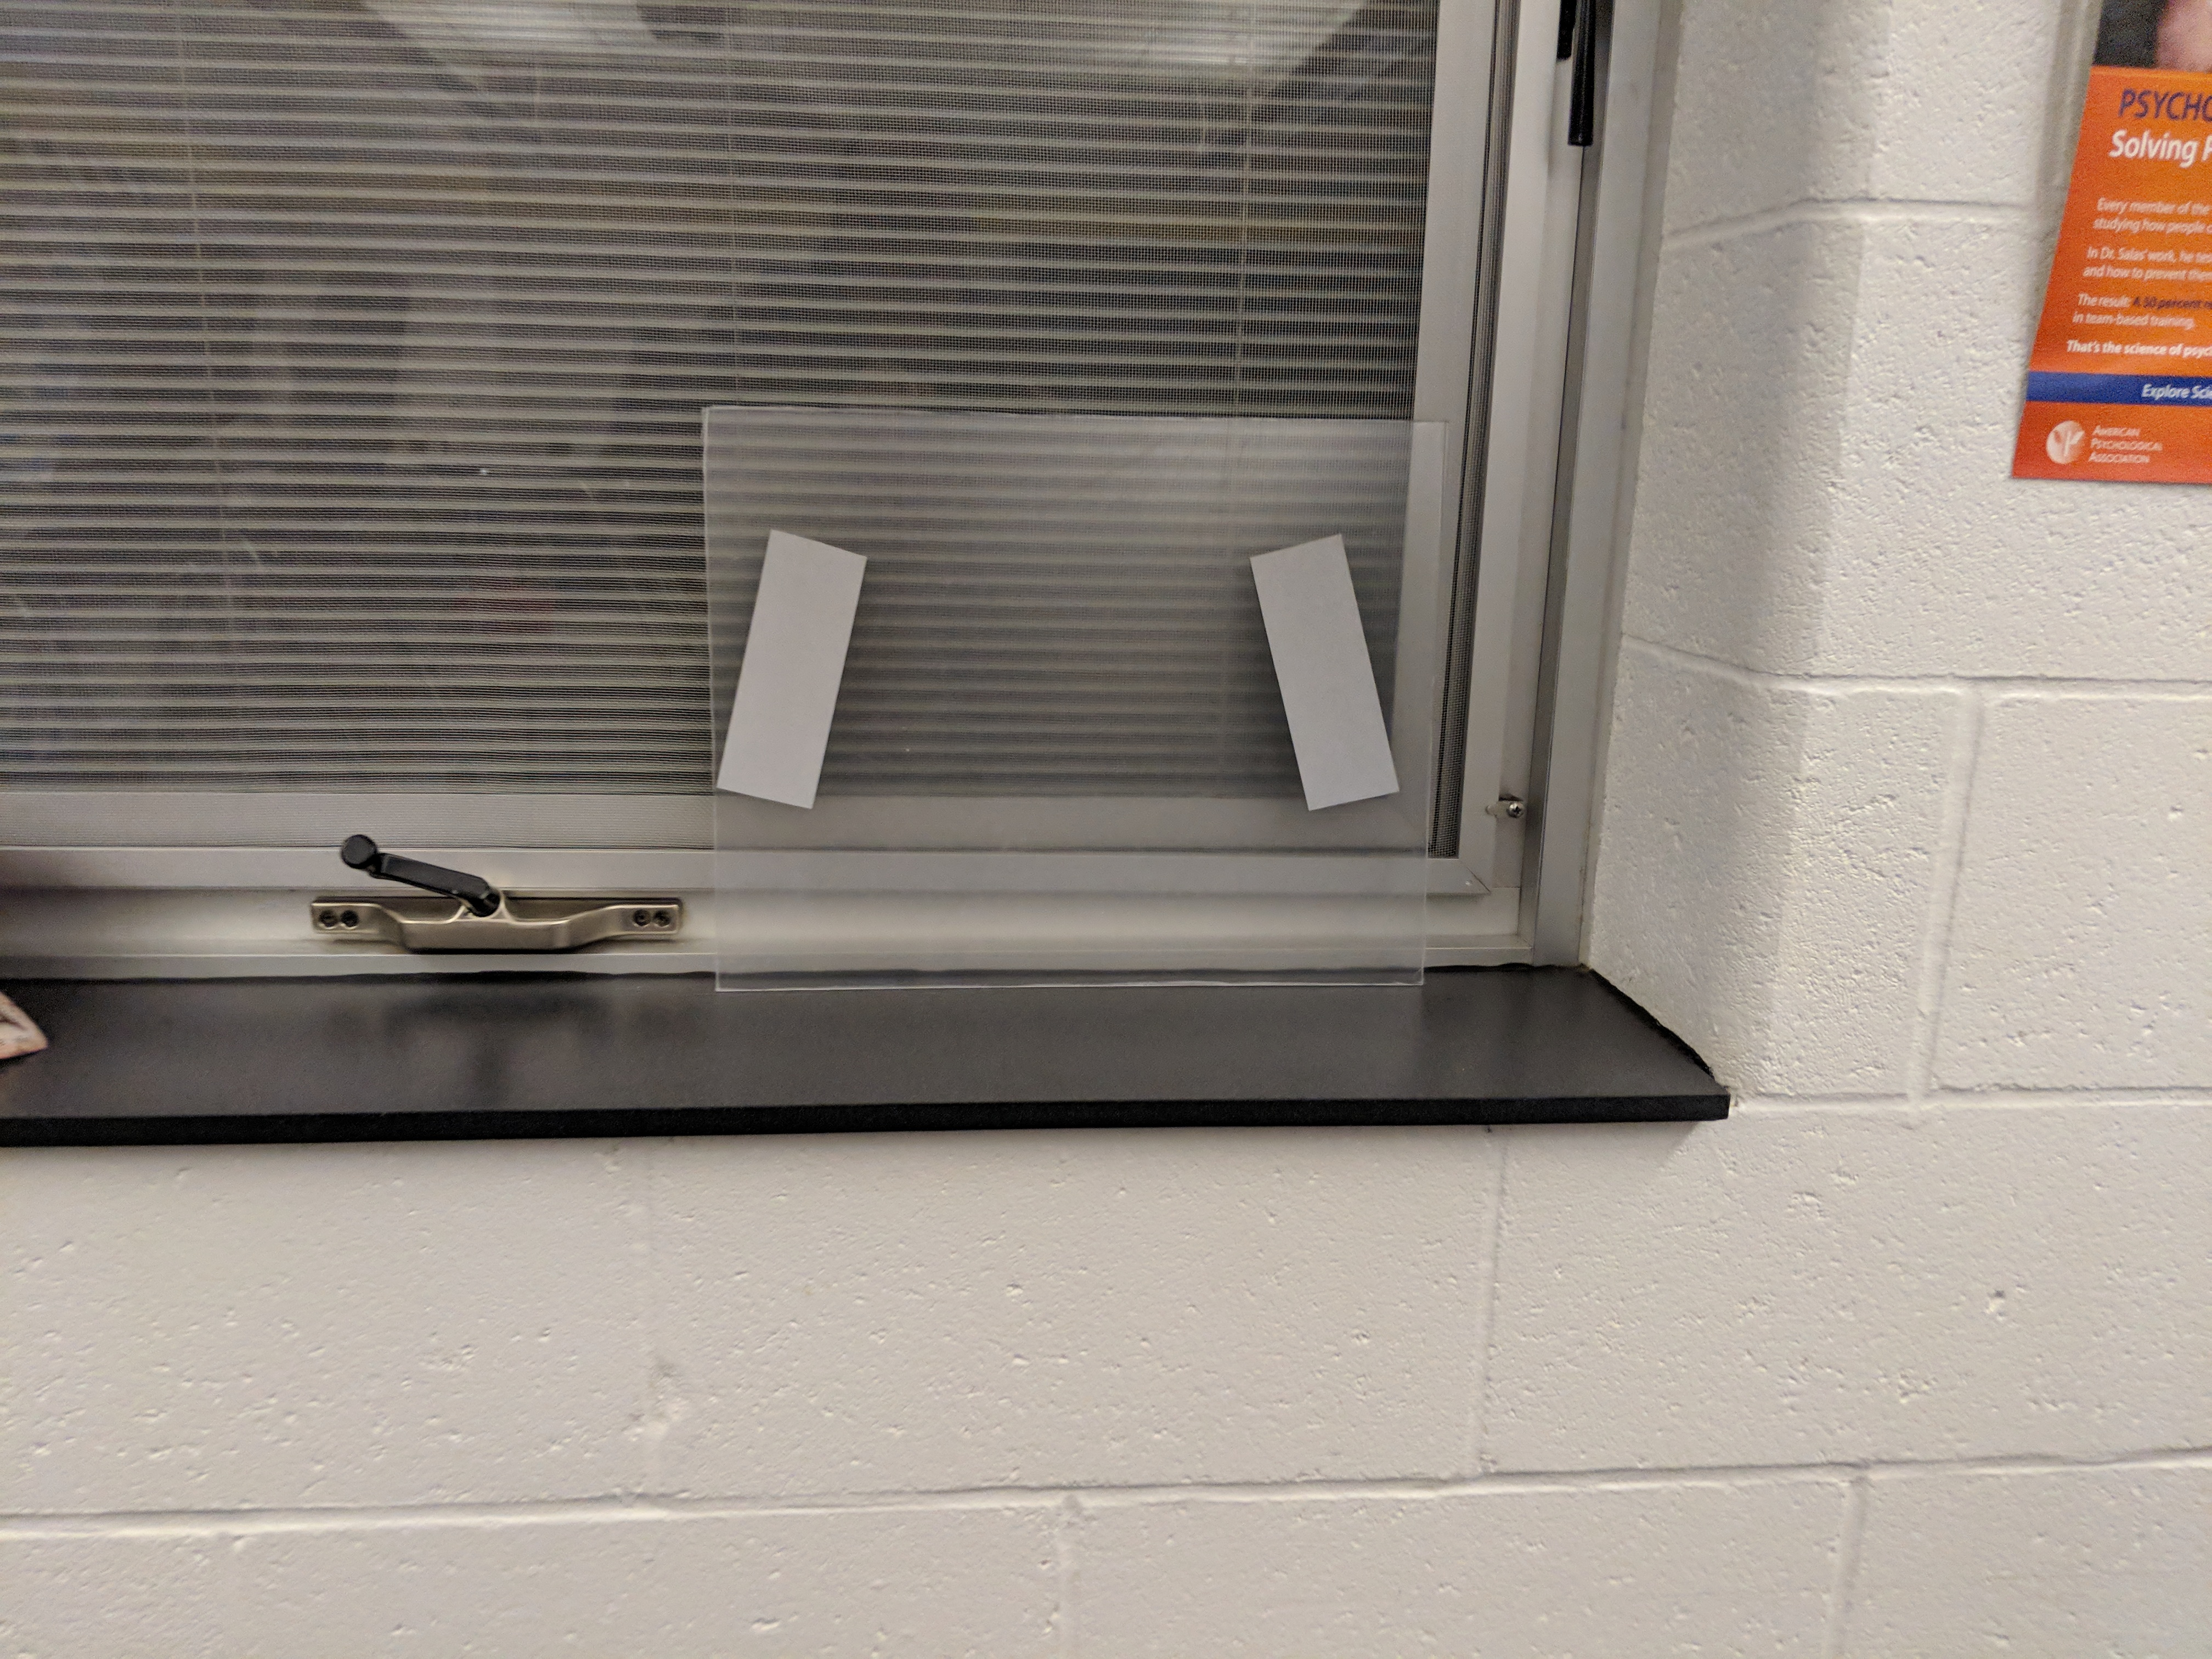vision_target: (709, 514, 1409, 807)
